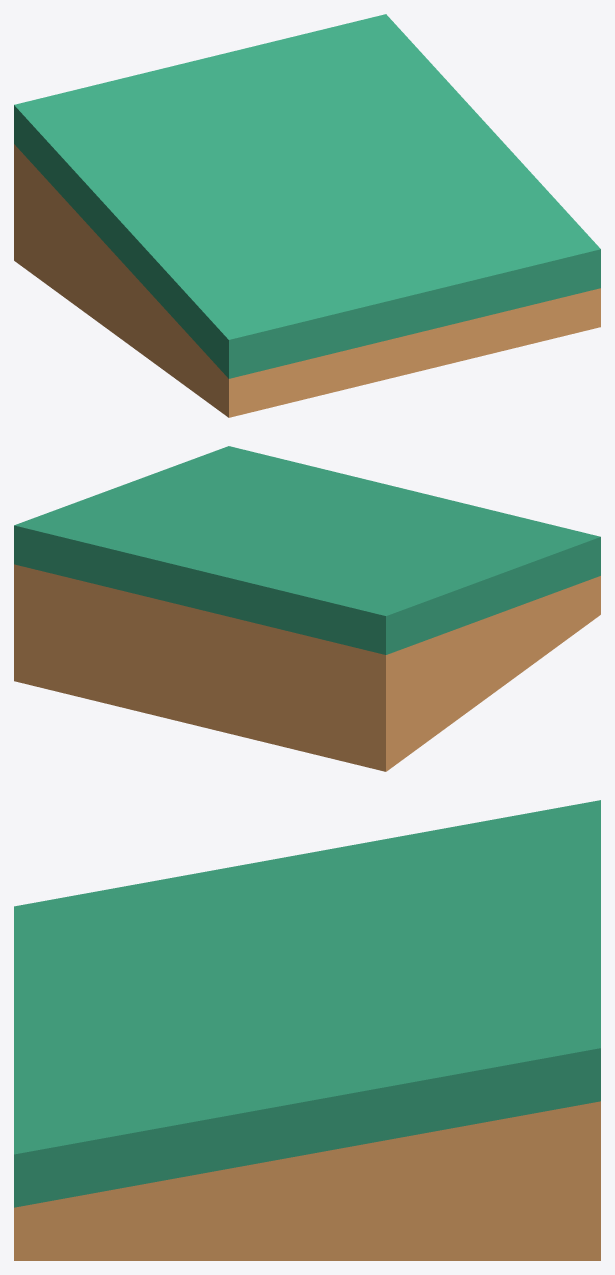
The model's file is tile_slope.fbx.
3 views of the same model, one above another, from view 1: azimuth 30°, elevation 25°; view 2: azimuth 150°, elevation 25°; view 3: azimuth 270°, elevation 25° (orthographic). The views are drawn at different scales.
Parts seen in each view (by area): view 1: tile_slope; view 2: tile_slope; view 3: tile_slope.
Boxes of the visible parts, <box> form: tile_slope: <box>14,14,600,417</box>; tile_slope: <box>14,446,600,771</box>; tile_slope: <box>14,800,600,1260</box>.
Size of the model in its own units: 10 by 4 by 10.
